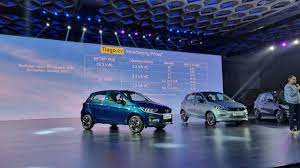Tiago: (79, 89, 173, 133), (179, 91, 248, 126)
